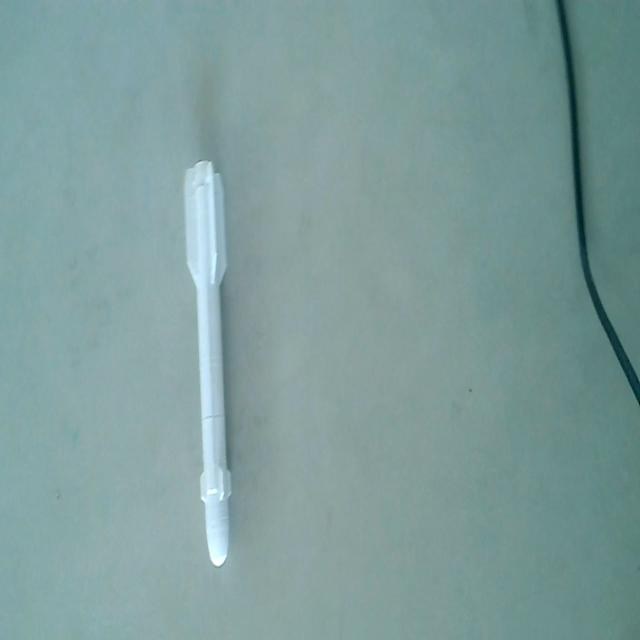Rocket: (178, 157, 238, 572)
